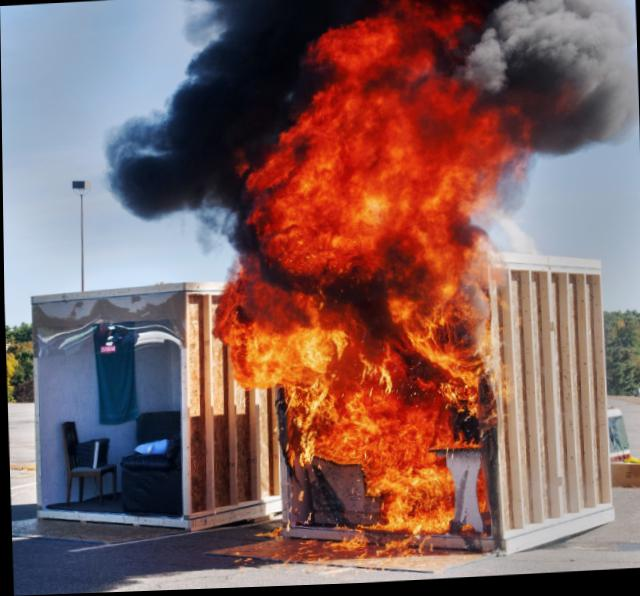fire: (194, 16, 569, 566)
